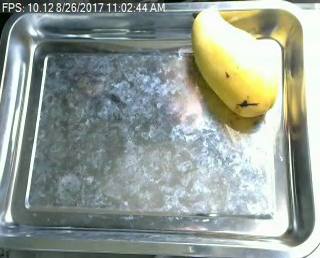Mango: (185, 3, 280, 124)
